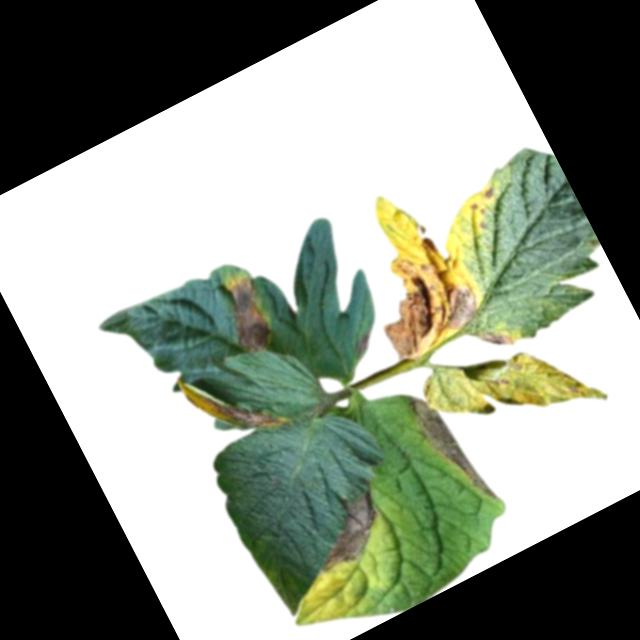Early_blight: (355, 231, 488, 364), (403, 381, 499, 516), (178, 345, 289, 460), (299, 489, 394, 576), (211, 266, 290, 358), (473, 316, 517, 358), (348, 326, 380, 357), (479, 181, 499, 200)
